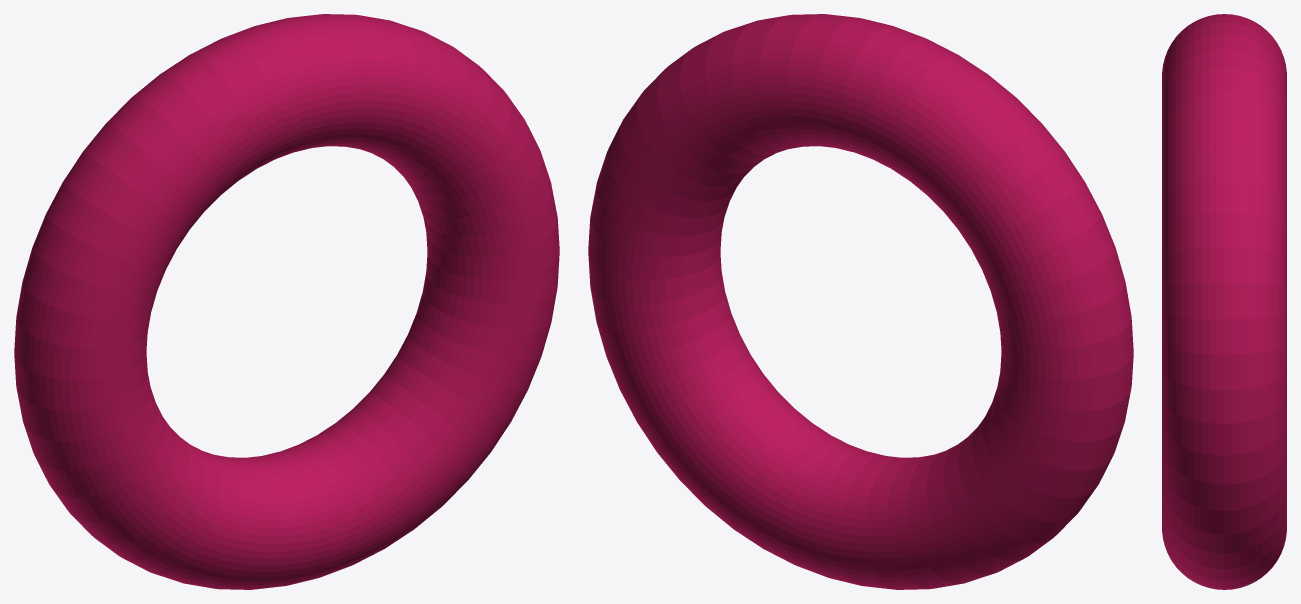
The picture shows the model from 3 angles, left to right: view 1: azimuth 30°, elevation 25°; view 2: azimuth 150°, elevation 25°; view 3: azimuth 270°, elevation 25°; orthographic projection. The views are drawn at different scales.
Parts seen in each view (by area): view 1: world; view 2: world; view 3: world.
Boxes of the visible parts, x1,y1,x2,y2 form: world: (14, 14, 559, 589); world: (588, 14, 1133, 589); world: (1162, 14, 1286, 589).
Bounding box in the file's own units: 37.47 × 37.39 × 8.12.
